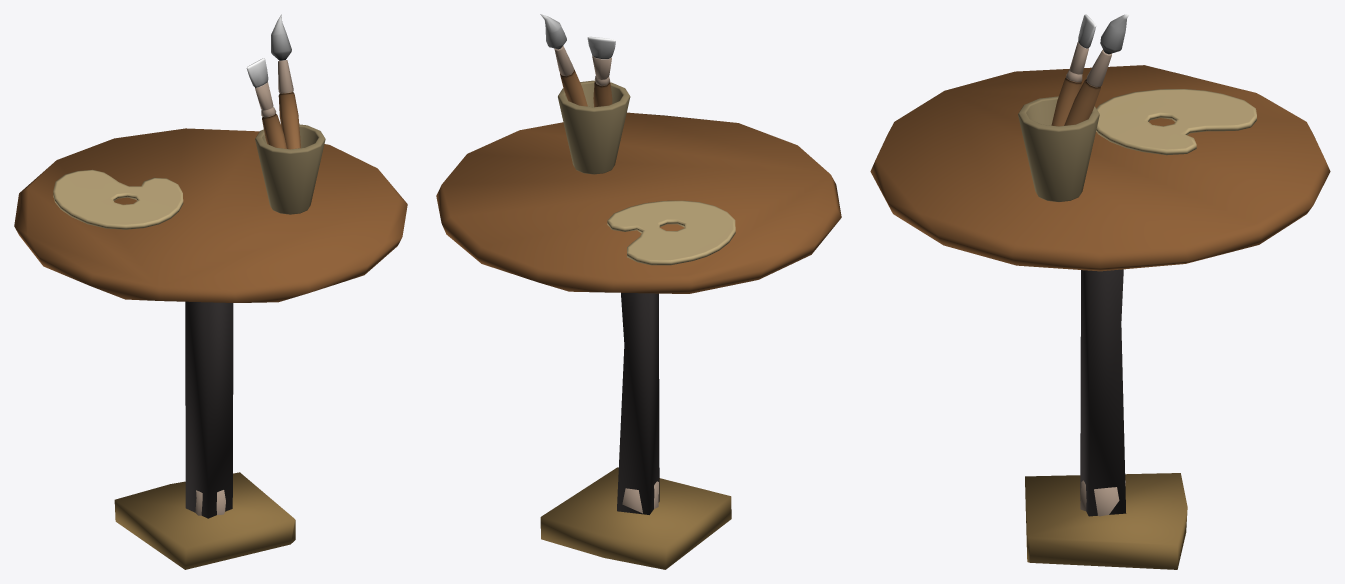
File: BrushNPaletteNTable.fbx
3 views of the same model, side by side, from view 1: azimuth 30°, elevation 25°; view 2: azimuth 150°, elevation 25°; view 3: azimuth 270°, elevation 25° (orthographic). The views are drawn at different scales.
Parts seen in each view (by area): view 1: Table.001, Art Supplies - Palette.001, Art Supplies - Brushes.001, Art Supplies - Brushes.002, Art Supplies - Brushes.003; view 2: Table.001, Art Supplies - Palette.001, Art Supplies - Brushes.001, Art Supplies - Brushes.002, Art Supplies - Brushes.003; view 3: Table.001, Art Supplies - Palette.001, Art Supplies - Brushes.001, Art Supplies - Brushes.002, Art Supplies - Brushes.003.
Part boxes in pixels (bbox=[...]): Table.001: bbox=[14, 128, 407, 569]; Art Supplies - Palette.001: bbox=[53, 169, 183, 229]; Art Supplies - Brushes.001: bbox=[255, 124, 325, 214]; Art Supplies - Brushes.002: bbox=[271, 14, 300, 149]; Art Supplies - Brushes.003: bbox=[246, 58, 286, 148]; Table.001: bbox=[436, 112, 841, 569]; Art Supplies - Palette.001: bbox=[607, 200, 735, 265]; Art Supplies - Brushes.001: bbox=[558, 80, 630, 174]; Art Supplies - Brushes.002: bbox=[540, 14, 587, 106]; Art Supplies - Brushes.003: bbox=[587, 36, 615, 107]; Table.001: bbox=[870, 65, 1330, 569]; Art Supplies - Palette.001: bbox=[1096, 89, 1256, 155]; Art Supplies - Brushes.001: bbox=[1018, 96, 1099, 201]; Art Supplies - Brushes.002: bbox=[1064, 14, 1129, 125]; Art Supplies - Brushes.003: bbox=[1051, 14, 1096, 126].
Size of the model in its own units: 54.78 by 74.59 by 54.74.
